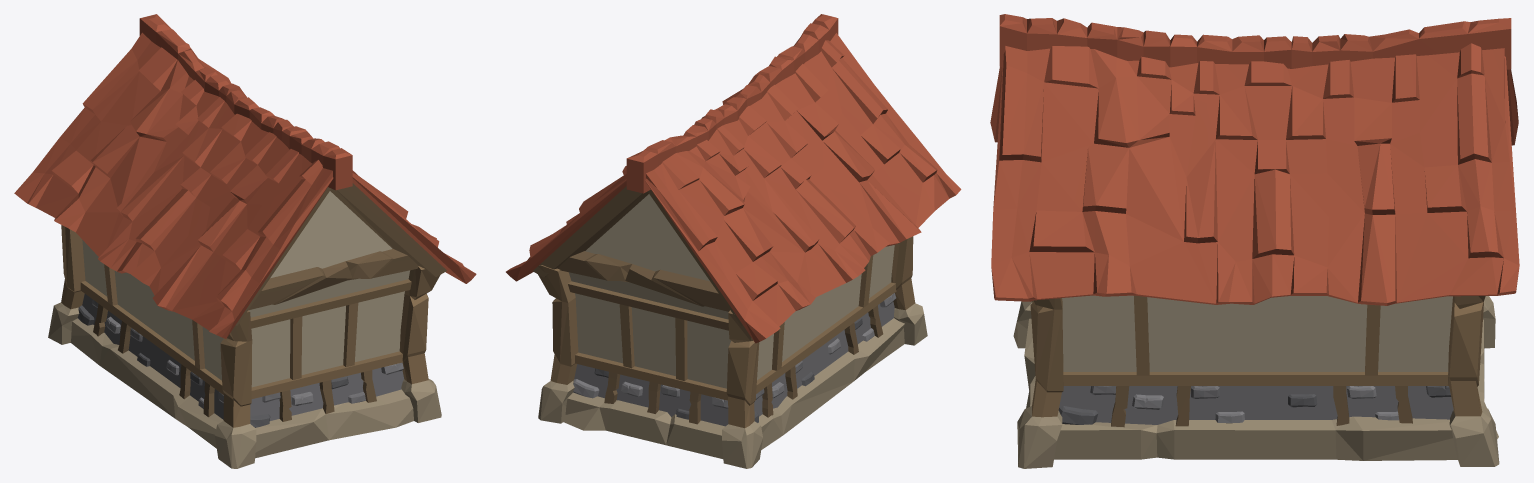
The model's file is SM_Bld_House_Room_07.glb.
The picture shows the model from 3 angles, left to right: view 1: azimuth 30°, elevation 25°; view 2: azimuth 150°, elevation 25°; view 3: azimuth 270°, elevation 25°; orthographic projection. The views are drawn at different scales.
Parts seen in each view (by area): view 1: SM_Bld_House_Room_07; view 2: SM_Bld_House_Room_07; view 3: SM_Bld_House_Room_07.
Part boxes in pixels (<box>): SM_Bld_House_Room_07: <box>14,14,476,468</box>; SM_Bld_House_Room_07: <box>506,14,961,468</box>; SM_Bld_House_Room_07: <box>990,14,1519,468</box>.
Size of the model in its own units: 5.04 by 5.09 by 6.38.
Materials: 1 (1 with a texture image).
